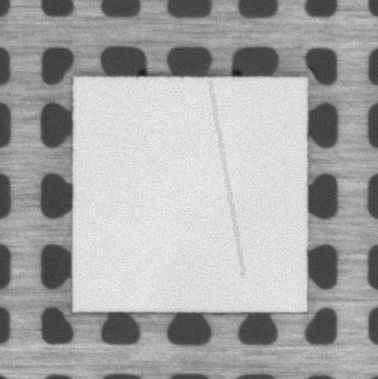DIE_CRACK: (209, 82, 243, 278)
